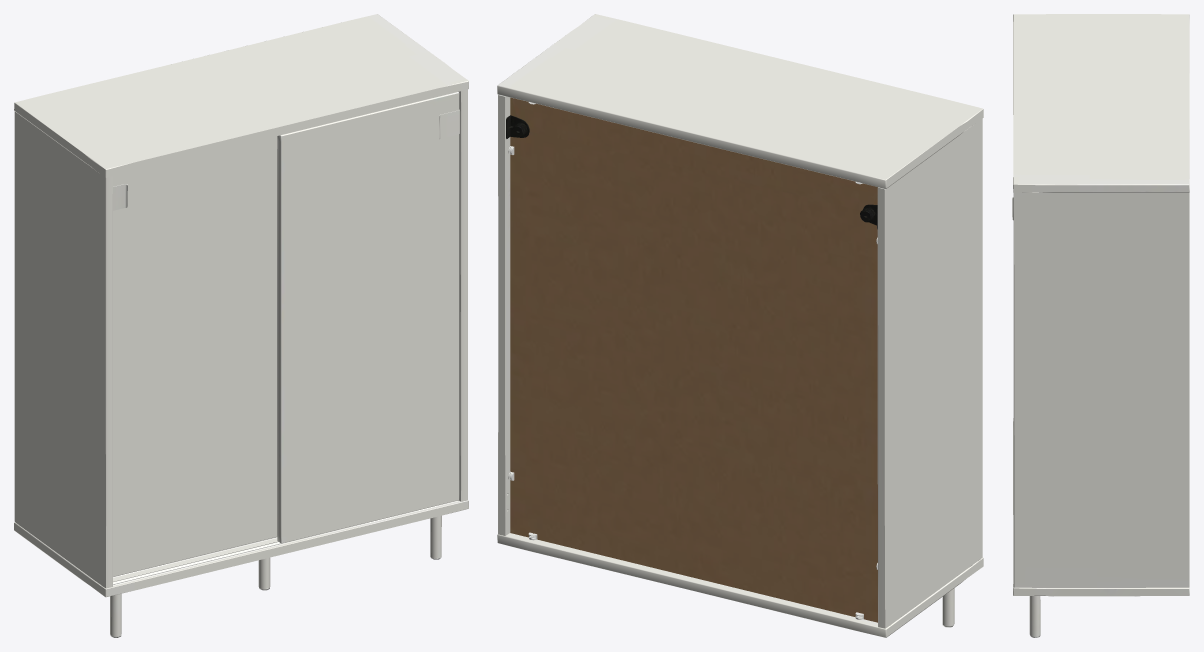
The model's file is 50334751-mini.glb.
The picture shows the model from 3 angles, left to right: view 1: azimuth 30°, elevation 25°; view 2: azimuth 150°, elevation 25°; view 3: azimuth 270°, elevation 25°; orthographic projection. The views are drawn at different scales.
Visible parts, largest first — view 1: 50334751-MACKAPÃƒâ€žR001; view 2: 50334751-MACKAPÃƒâ€žR001; view 3: 50334751-MACKAPÃƒâ€žR001.
Boxes of the visible parts, left/top/right/bottom form: 50334751-MACKAPÃƒâ€žR001: left=14, top=14, right=468, bottom=637; 50334751-MACKAPÃƒâ€žR001: left=497, top=14, right=983, bottom=637; 50334751-MACKAPÃƒâ€žR001: left=1012, top=14, right=1189, bottom=637.
Size of the model in its own units: 0.8002 by 1.01 by 0.3515.
Materials: 2 (1 with a texture image).
